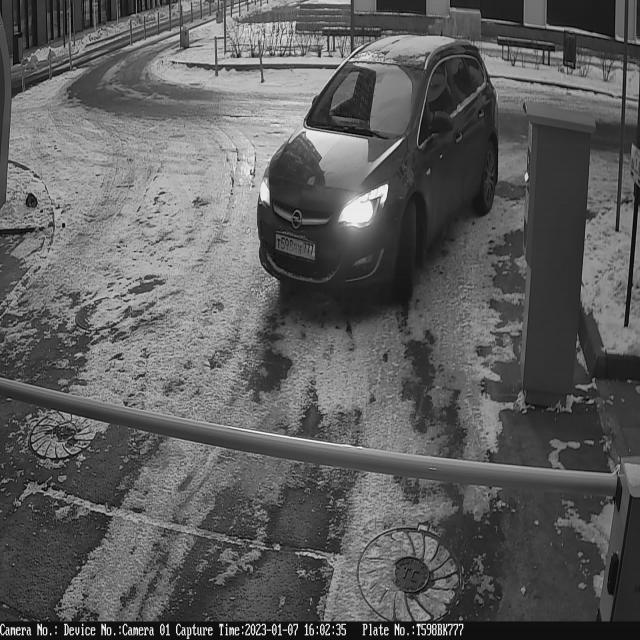car-plate-numbers: (274, 232, 319, 264)
